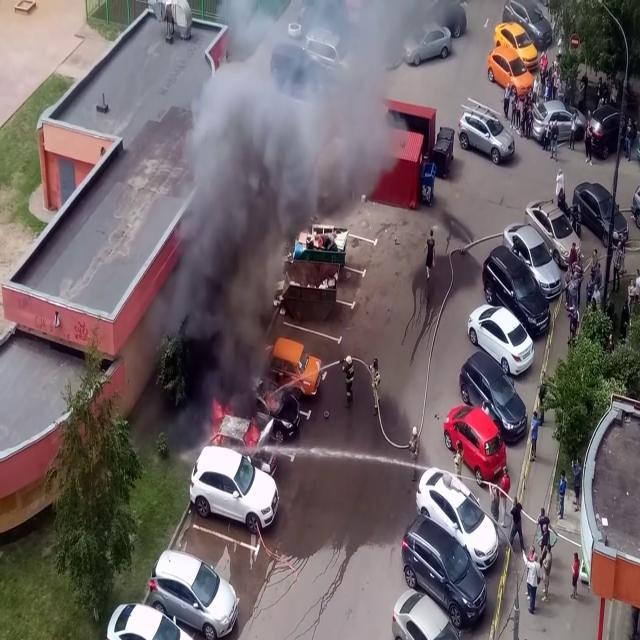Smoke: (164, 2, 300, 416)
